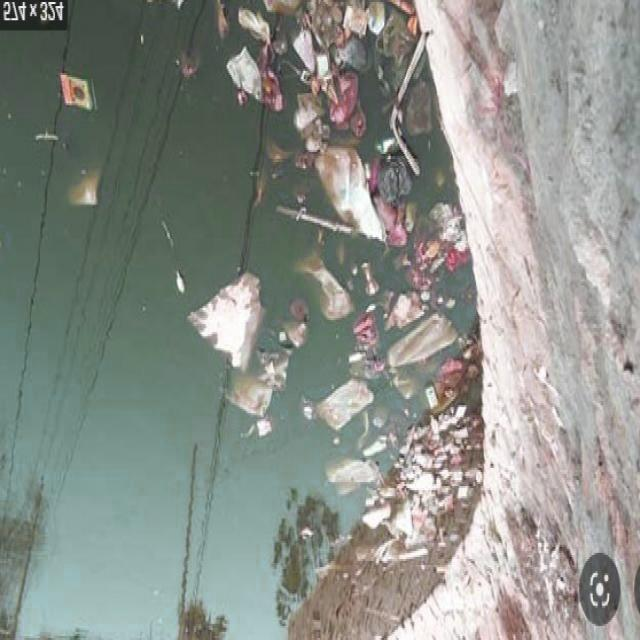Glass: (354, 258, 382, 308), (421, 373, 452, 418), (160, 214, 181, 248), (28, 130, 72, 142)
Plastic: (414, 437, 469, 514), (65, 161, 108, 221), (48, 72, 105, 113), (348, 2, 391, 45), (363, 499, 396, 543), (178, 265, 188, 300)
Trash: (221, 314, 312, 440), (188, 274, 274, 372), (308, 142, 386, 242), (404, 205, 470, 284), (392, 308, 457, 378), (220, 46, 282, 117), (303, 247, 352, 333), (217, 0, 311, 39), (319, 379, 377, 440), (387, 492, 447, 547), (314, 454, 378, 504), (294, 25, 330, 89), (286, 94, 321, 149)
